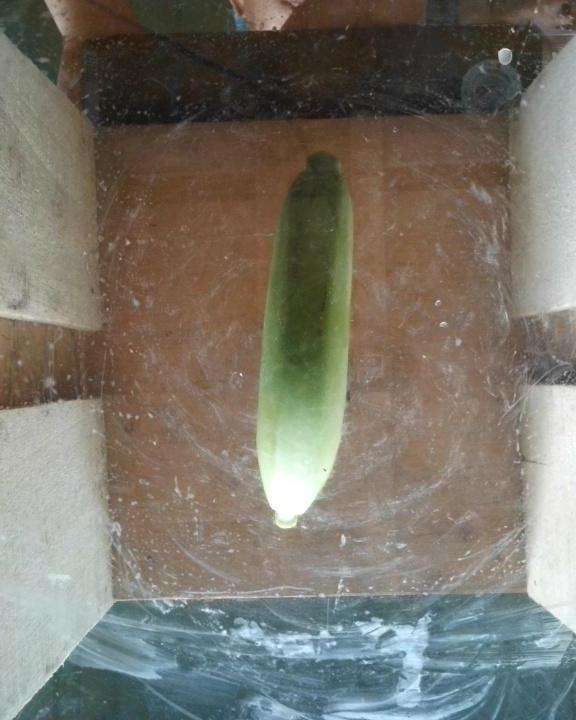CLASS B: (249, 144, 359, 535)
Class A: (310, 273, 336, 315), (284, 240, 310, 279)
